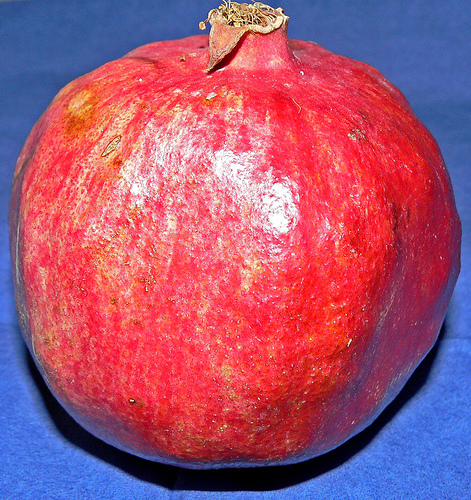pomogranate: (12, 2, 460, 472)
